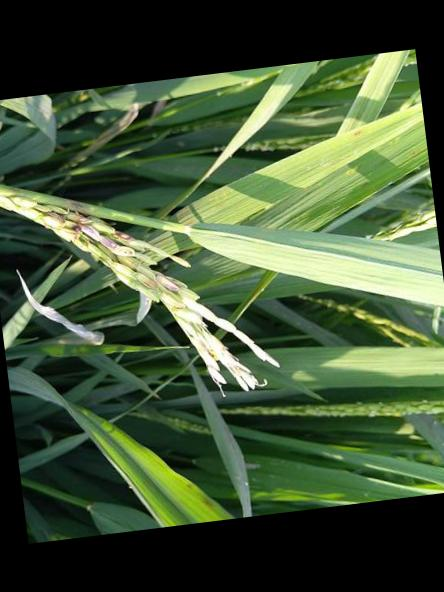Panicle Blight: (76, 215, 116, 248), (154, 272, 178, 290), (43, 215, 63, 227), (139, 275, 156, 289), (114, 230, 131, 241), (70, 223, 81, 240)
